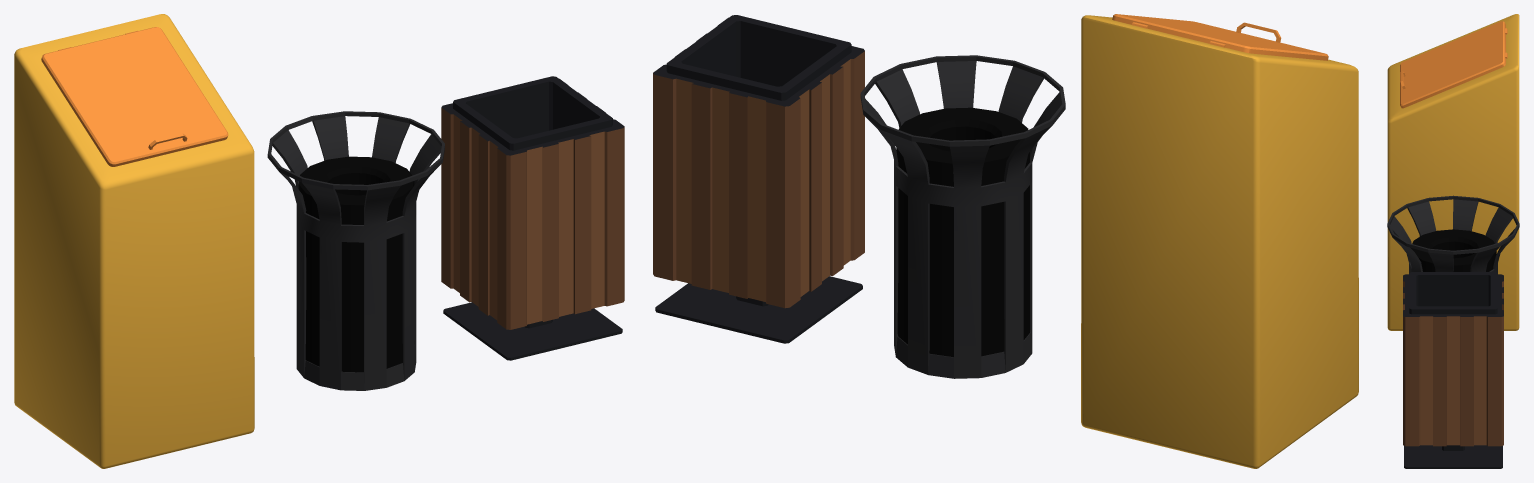
Rendered from Trashes.fbx.
3 views of the same model, side by side, from view 1: azimuth 30°, elevation 25°; view 2: azimuth 150°, elevation 25°; view 3: azimuth 270°, elevation 25° (orthographic). The views are drawn at different scales.
Parts seen in each view (by area): view 1: Trash_2, Trash_3, Trash_1, Trash_2_cap; view 2: Trash_2, Trash_3, Trash_1, Trash_2_cap; view 3: Trash_2, Trash_3, Trash_1, Trash_2_cap.
Boxes of the visible parts, x1,y1,x2,y2 form: Trash_2: [14, 14, 254, 468]; Trash_3: [441, 76, 624, 360]; Trash_1: [267, 111, 444, 390]; Trash_2_cap: [41, 27, 228, 166]; Trash_2: [1081, 15, 1358, 468]; Trash_3: [653, 15, 864, 343]; Trash_1: [860, 55, 1065, 378]; Trash_2_cap: [1112, 14, 1328, 60]; Trash_2: [1387, 14, 1519, 330]; Trash_3: [1403, 272, 1503, 468]; Trash_1: [1387, 195, 1519, 273]; Trash_2_cap: [1400, 21, 1507, 108].
Size of the model in its own units: 212 by 135 by 61.41.
